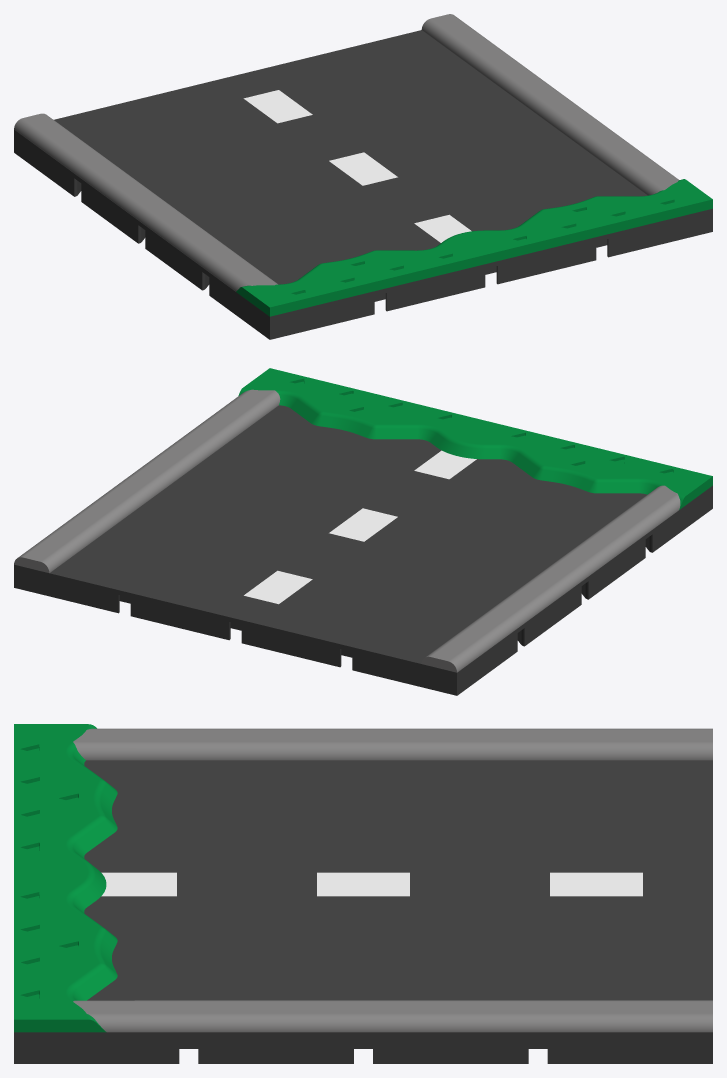
The model's file is 10x10 Street To Grass.obj.
3 views of the same model, one above another, from view 1: azimuth 30°, elevation 25°; view 2: azimuth 150°, elevation 25°; view 3: azimuth 270°, elevation 25° (orthographic). The views are drawn at different scales.
Visible parts, largest first — view 1: Körper1:4, Körper1:5, Körper1:3, Körper1:6, Körper1, Körper1:1, Körper1:2; view 2: Körper1:4, Körper1:5, Körper1:3, Körper1:6, Körper1, Körper1:1, Körper1:2; view 3: Körper1:4, Körper1:5, Körper1:6, Körper1:3, Körper1, Körper1:1, Körper1:2.
Part boxes in pixels (x1,y1,x2,y2): Körper1:4: (14, 30, 712, 339); Körper1:5: (236, 179, 712, 316); Körper1:3: (421, 14, 679, 195); Körper1:6: (14, 113, 277, 291); Körper1: (329, 152, 397, 185); Körper1:1: (243, 90, 312, 123); Körper1:2: (414, 214, 471, 242); Körper1:4: (14, 405, 712, 695); Körper1:5: (238, 368, 712, 509); Körper1:3: (14, 389, 280, 573); Körper1:6: (421, 485, 680, 672); Körper1: (329, 508, 397, 541); Körper1:1: (244, 570, 312, 604); Körper1:2: (414, 450, 476, 479); Körper1:4: (14, 760, 712, 1063); Körper1:5: (14, 724, 117, 1032); Körper1:6: (73, 728, 712, 760); Körper1:3: (73, 1000, 712, 1032); Körper1: (317, 872, 409, 896); Körper1:1: (550, 872, 642, 896); Körper1:2: (101, 872, 176, 896).
Size of the model in its own units: 100 by 7 by 100.
